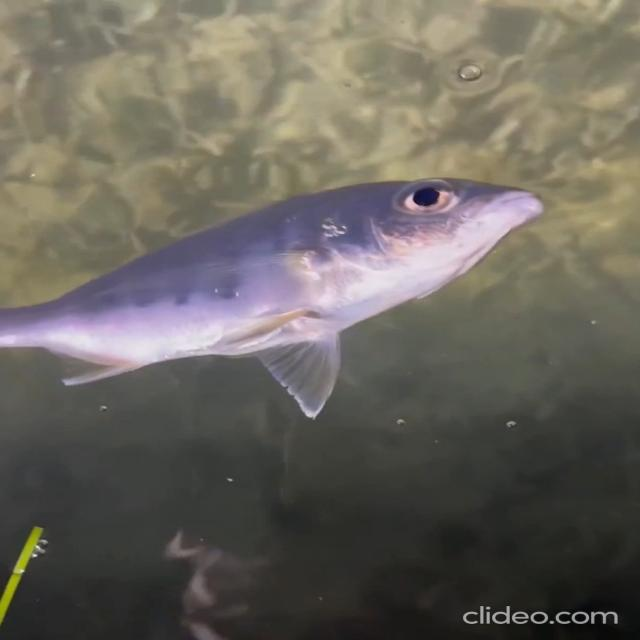fish: (2, 169, 560, 425)
